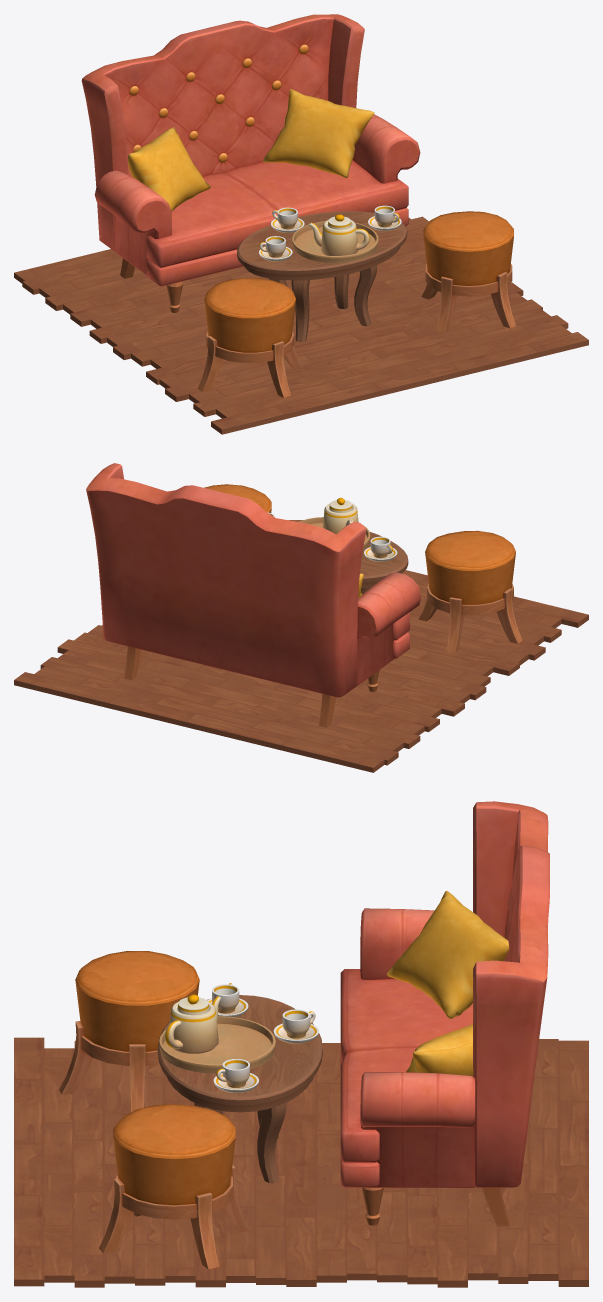
The model's file is example.glb.
3 renders of one model, top to bottom at view 1: azimuth 30°, elevation 25°; view 2: azimuth 150°, elevation 25°; view 3: azimuth 270°, elevation 25°, orthographic. The views are drawn at different scales.
Visible parts, largest first — view 1: Sofa, Floor, Banquet001, Banquet, Coffee_table_2, Pillow_1, Pillow_002, Teapot, Tray; view 2: Sofa, Floor, Banquet001, Coffee_table_2, Teapot, Banquet, Tea_cup001; view 3: Floor, Sofa, Banquet, Banquet001, Coffee_table_2, Pillow_002, Tray, Teapot, Pillow_1, Tea_cup, Tea_cup_2_Cups_plates_0, Tea_cup001.
Boxes of the visible parts, left/top/right/bottom form: Sofa: left=81, top=14, right=420, bottom=312; Floor: left=14, top=216, right=588, bottom=434; Banquet001: left=197, top=278, right=302, bottom=397; Banquet: left=421, top=211, right=516, bottom=333; Coffee_table_2: left=237, top=211, right=407, bottom=342; Pillow_1: left=263, top=89, right=374, bottom=178; Pillow_002: left=127, top=127, right=210, bottom=211; Teapot: left=308, top=214, right=369, bottom=255; Tray: left=292, top=221, right=378, bottom=262; Sofa: left=86, top=463, right=421, bottom=727; Floor: left=14, top=570, right=588, bottom=772; Banquet001: left=418, top=530, right=522, bottom=653; Coffee_table_2: left=288, top=520, right=408, bottom=594; Teapot: left=322, top=497, right=358, bottom=534; Banquet: left=204, top=484, right=271, bottom=512; Tea_cup001: left=370, top=536, right=392, bottom=558; Floor: left=14, top=1037, right=588, bottom=1287; Sofa: left=340, top=801, right=549, bottom=1226; Banquet: left=99, top=1104, right=250, bottom=1269; Banquet001: left=59, top=951, right=199, bottom=1112; Coffee_table_2: left=157, top=995, right=322, bottom=1183; Pillow_002: left=387, top=891, right=509, bottom=1019; Tray: left=159, top=1016, right=275, bottom=1073; Teapot: left=164, top=994, right=221, bottom=1053; Pillow_1: left=406, top=1024, right=473, bottom=1076; Tea_cup: left=282, top=1009, right=315, bottom=1038; Tea_cup_2_Cups_plates_0: left=216, top=1059, right=249, bottom=1087; Tea_cup001: left=212, top=983, right=239, bottom=1013.
Bounding box in the file's own units: 3008 × 1727 × 3000.
8 materials, 8 textured.
